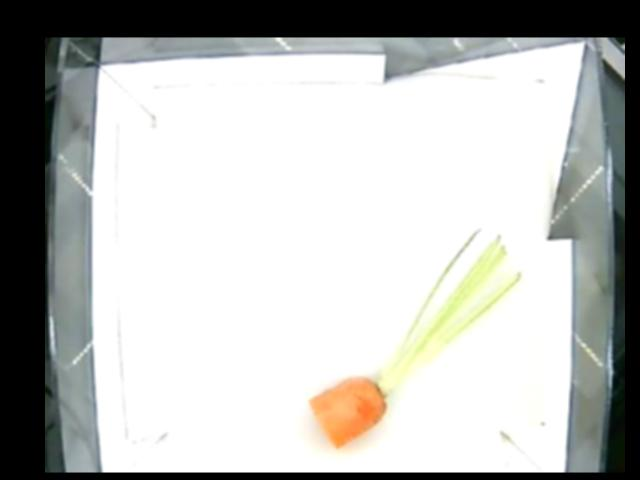Carrot: (308, 352, 422, 448)
